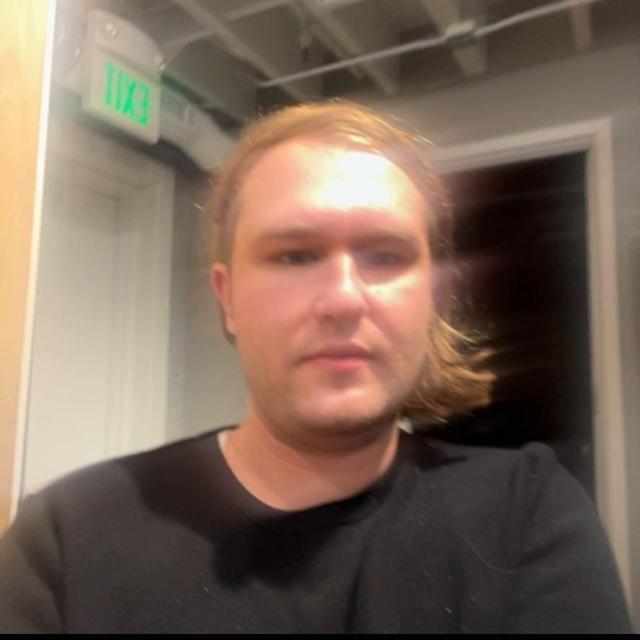no hat: (206, 92, 478, 528)
